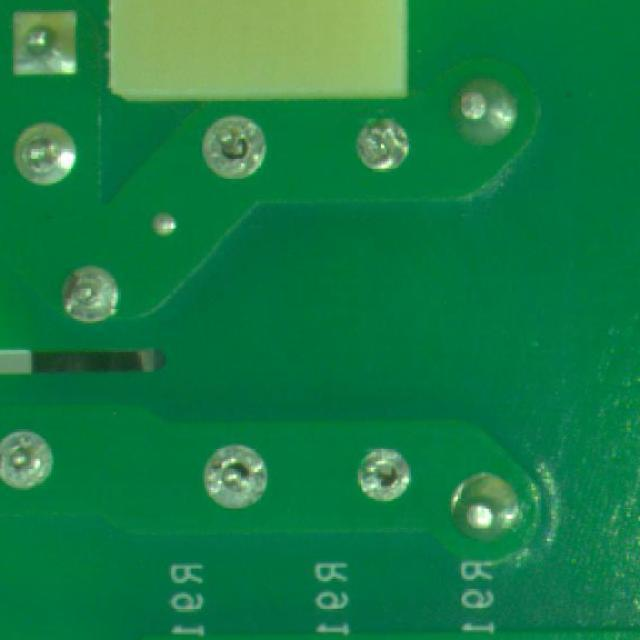Insufficient solder: (332, 106, 436, 186), (191, 428, 280, 520), (187, 110, 276, 187), (348, 433, 418, 517), (58, 260, 129, 340), (0, 418, 66, 494)
